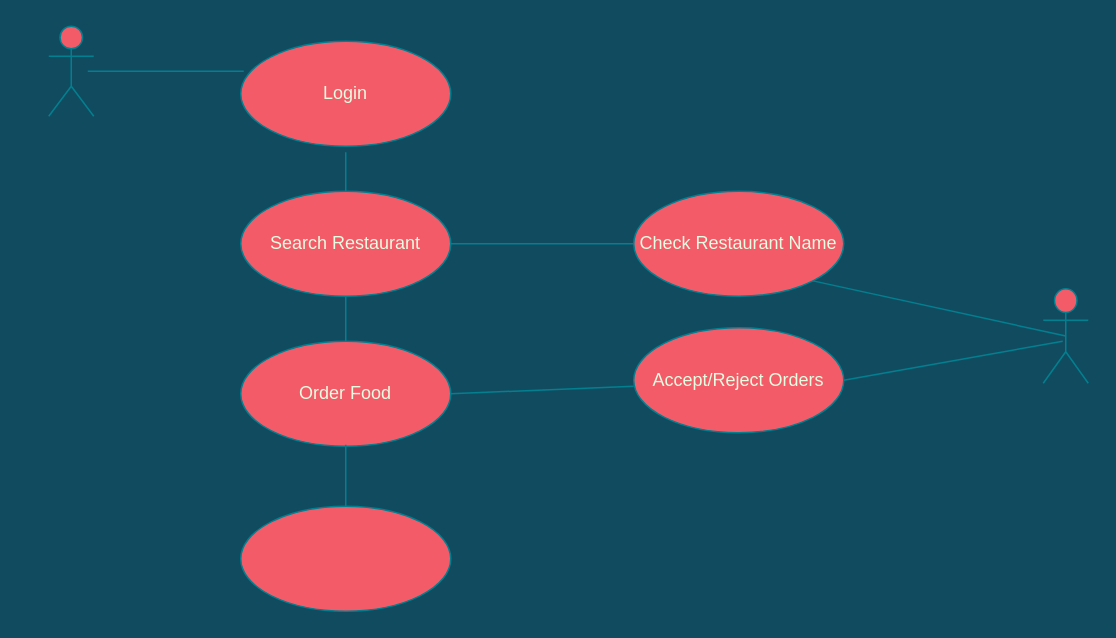
This 1116x638 diagram has some shape labels left out. Here are the shapes that lost their labels. From the top down, the box of each, then its label:
(47, 25, 94, 116): ActorName
(1042, 287, 1088, 383): Admin
(239, 505, 451, 611): Logout
